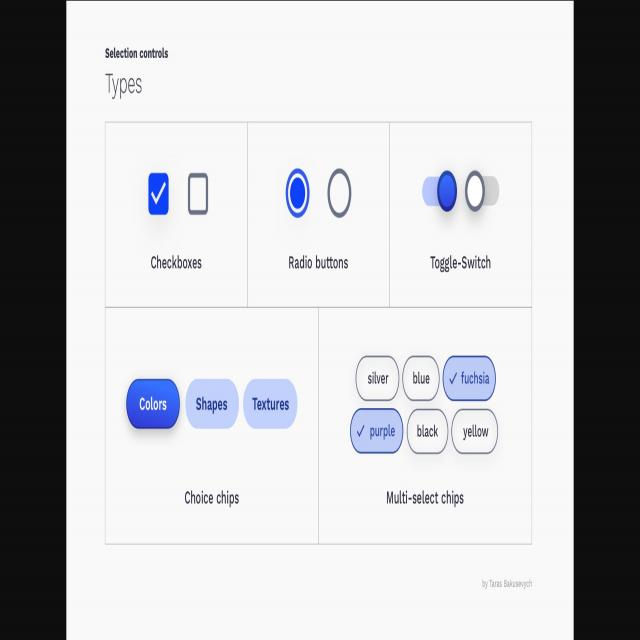checkbox: (147, 170, 170, 217)
radio: (284, 166, 310, 218)
toggle: (421, 167, 457, 215), (465, 168, 500, 213)
